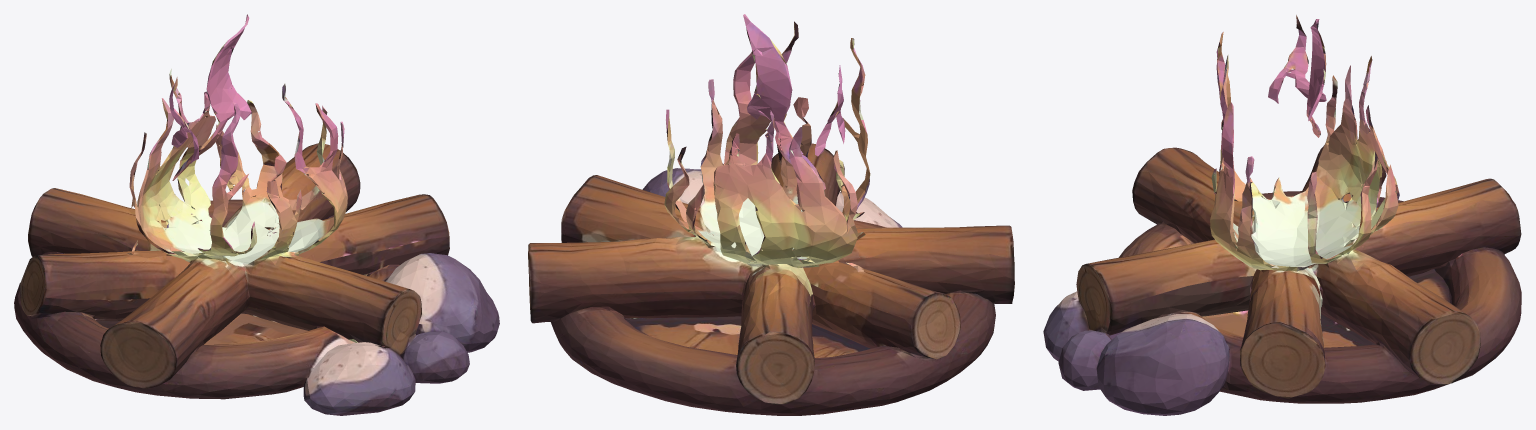
File: campfire.glb
The picture shows the model from 3 angles, left to right: view 1: azimuth 30°, elevation 25°; view 2: azimuth 150°, elevation 25°; view 3: azimuth 270°, elevation 25°; orthographic projection. The views are drawn at different scales.
Visible parts, largest first — view 1: tmp5hhi47lz.ply; view 2: tmp5hhi47lz.ply; view 3: tmp5hhi47lz.ply.
Boxes of the visible parts, x1,y1,x2,y2 form: tmp5hhi47lz.ply: (14, 14, 499, 415); tmp5hhi47lz.ply: (528, 14, 1014, 415); tmp5hhi47lz.ply: (1043, 15, 1521, 415).
Bounding box in the file's own units: 1.92 × 1.54 × 1.99.
Materials: 1 (1 with a texture image).
